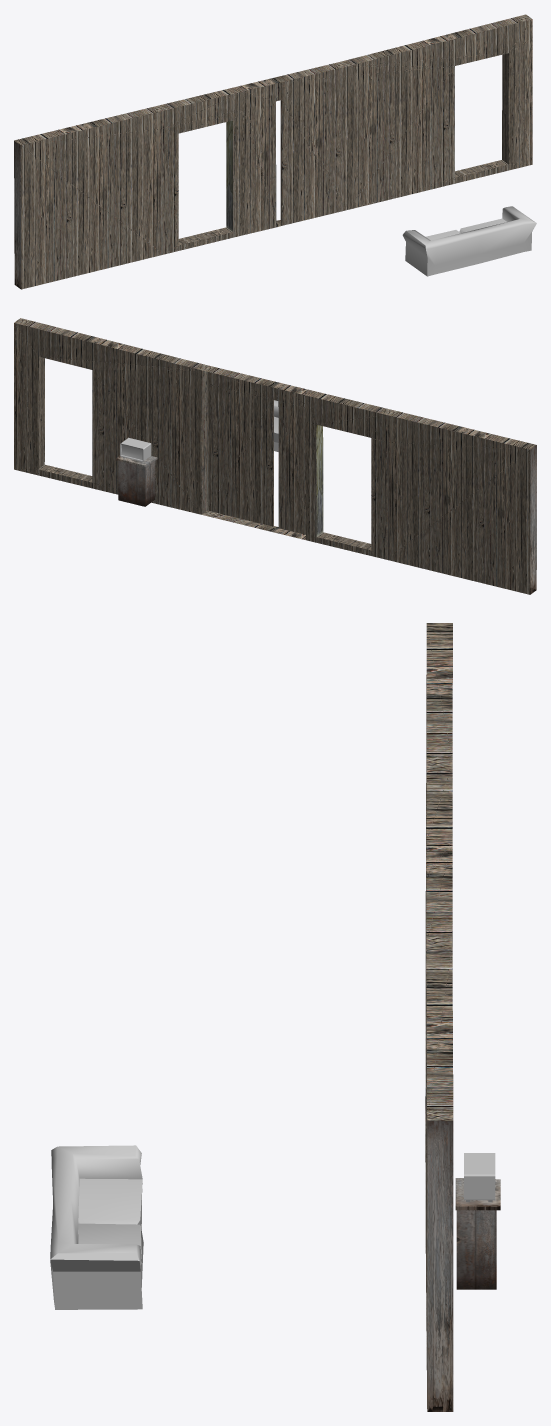
The model's file is RadioCocina.FBX.
3 renders of one model, top to bottom at view 1: azimuth 30°, elevation 25°; view 2: azimuth 150°, elevation 25°; view 3: azimuth 270°, elevation 25°, orthographic. The views are drawn at different scales.
Visible parts, largest first — view 1: Pared1Centro, Sillon; view 2: Pared1Centro, Mueble01, Radio; view 3: Pared1Centro, Sillon, Mueble01, Radio.
Boxes of the visible parts, <box> form: Pared1Centro: <box>14,14,532,289</box>; Sillon: <box>402,206,536,276</box>; Pared1Centro: <box>14,318,536,594</box>; Mueble01: <box>116,456,157,506</box>; Radio: <box>120,437,151,462</box>; Pared1Centro: <box>425,623,453,1411</box>; Sillon: <box>50,1145,143,1309</box>; Mueble01: <box>455,1178,500,1289</box>; Radio: <box>464,1153,495,1202</box>.
Size of the model in its own units: 355 by 96.48 by 135.
